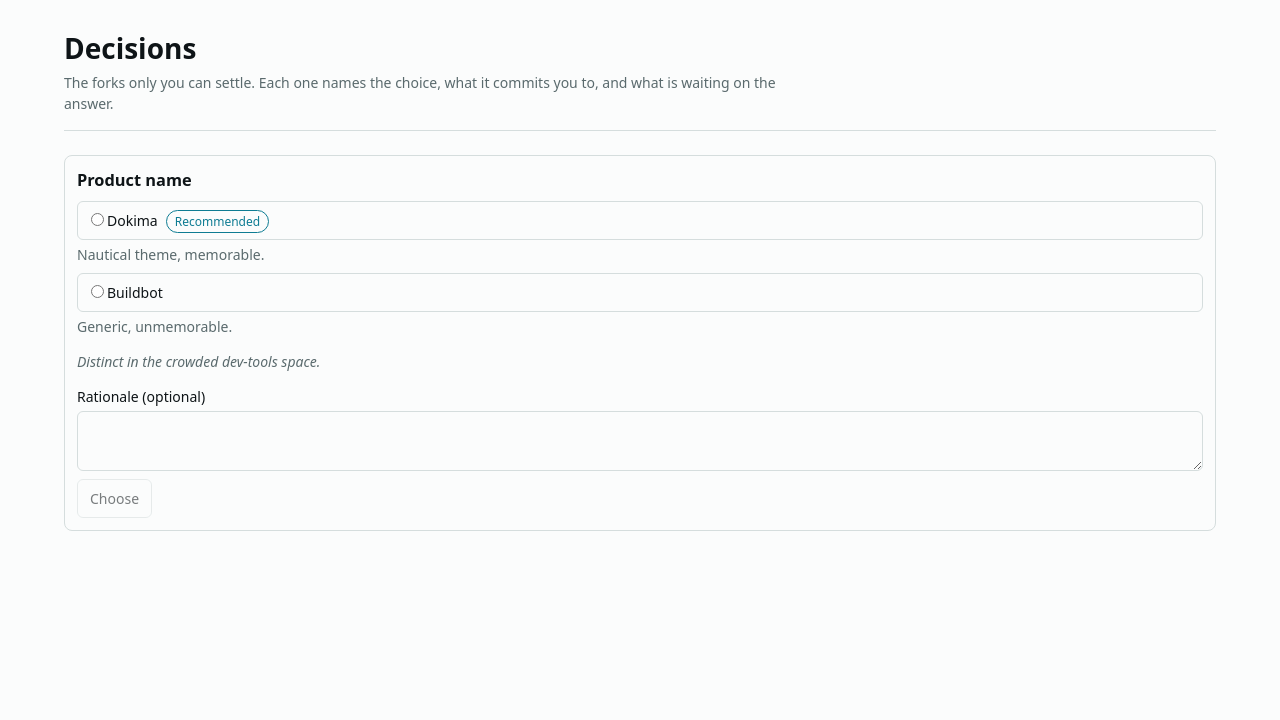
Scenario: DecisionsBoard founder slate › shows an error and stays in the open form when deciding fails
Check: the heading "Product name" is shown, box [77, 169, 192, 191]
Click the radio button labelled "Dokima": (98, 219) [91, 213, 104, 226]
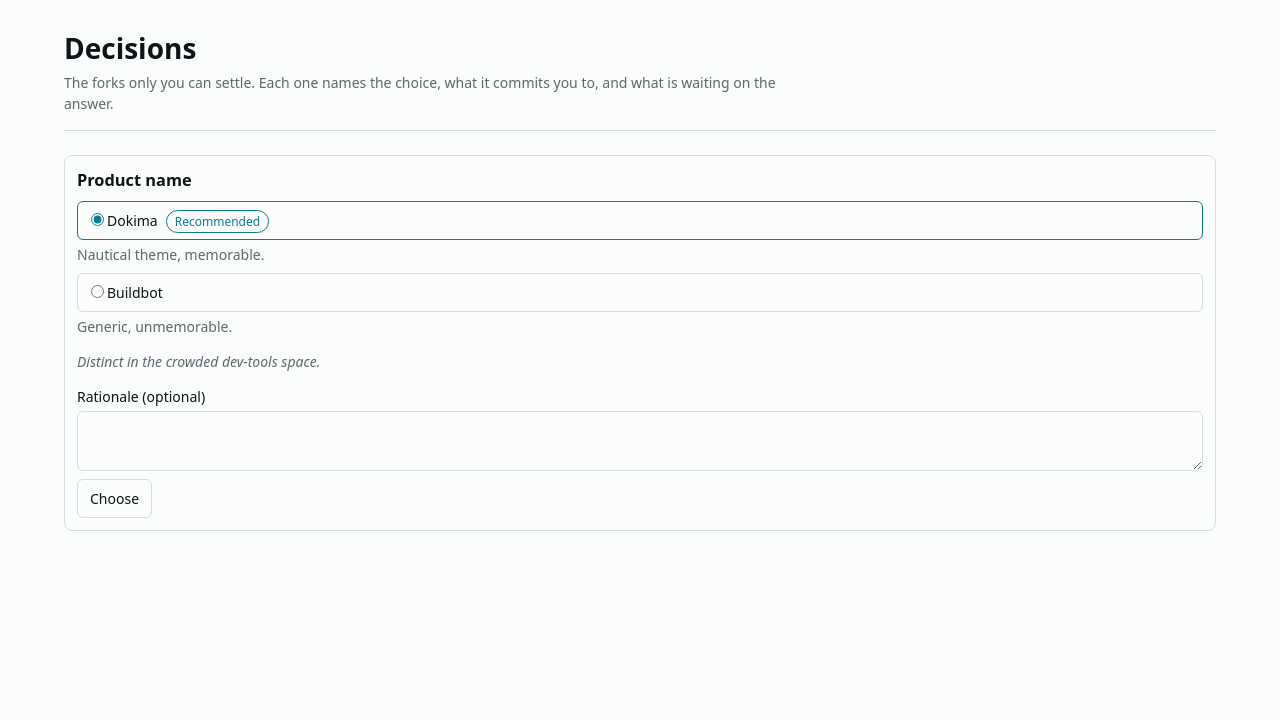
Click the button "Choose": (114, 498) [77, 479, 152, 518]
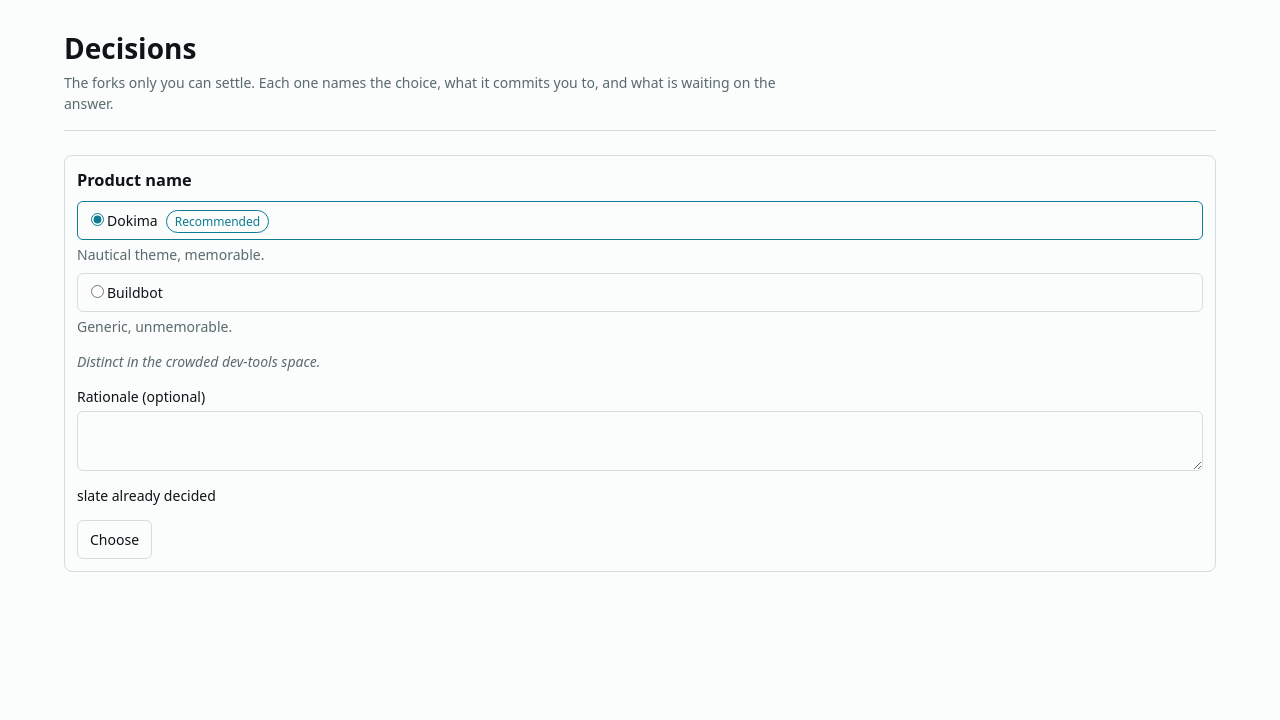
Check: the button "Choose" is shown, box [77, 520, 152, 559]
Check: the message reads "slate already decided", box [77, 486, 216, 505]
